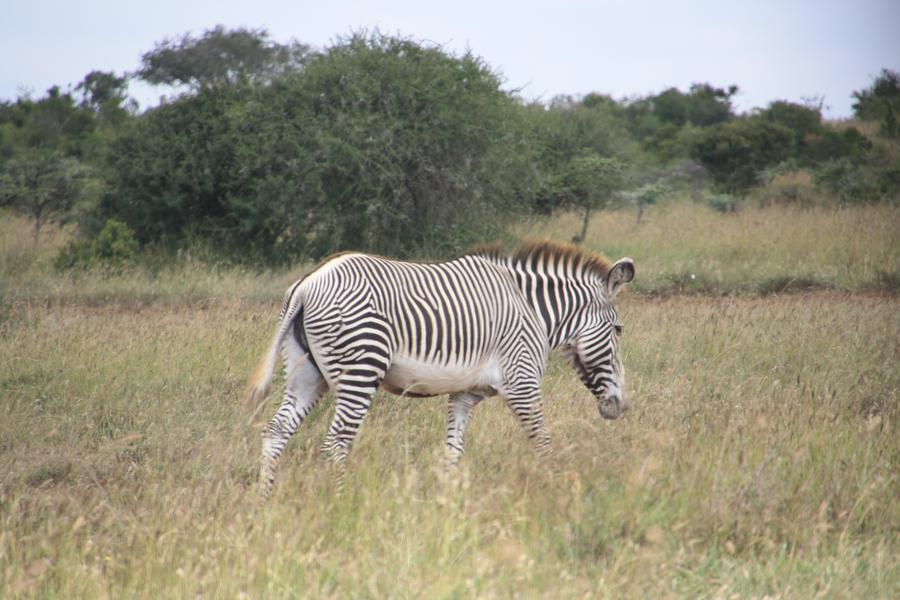zebra_grevys: (286, 246, 542, 381)
